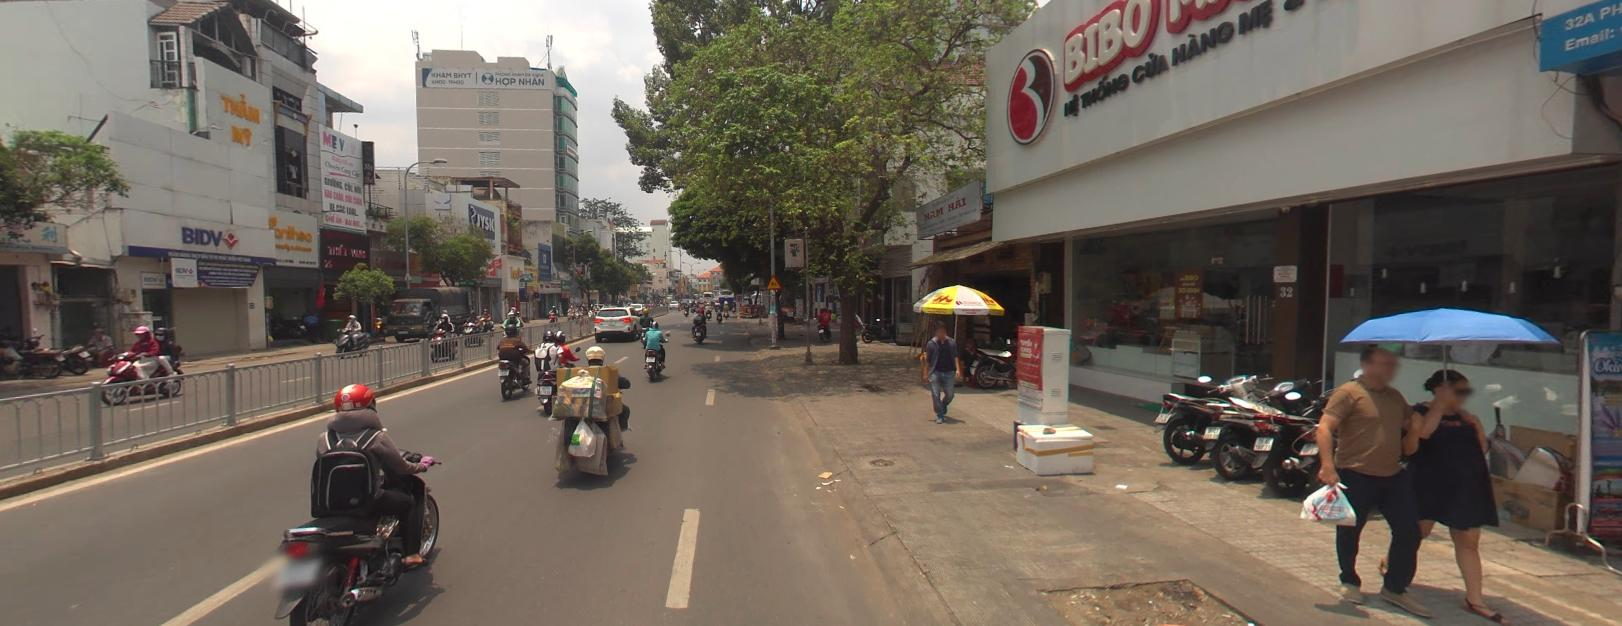Nguy hiem: (765, 273, 782, 287)
